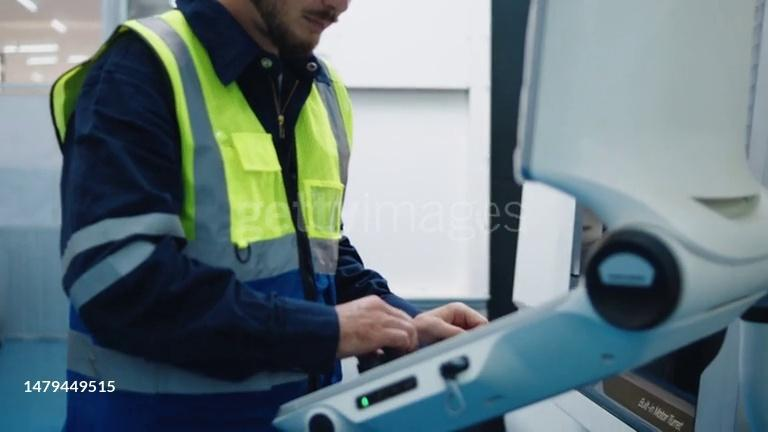person: (51, 1, 489, 432)
